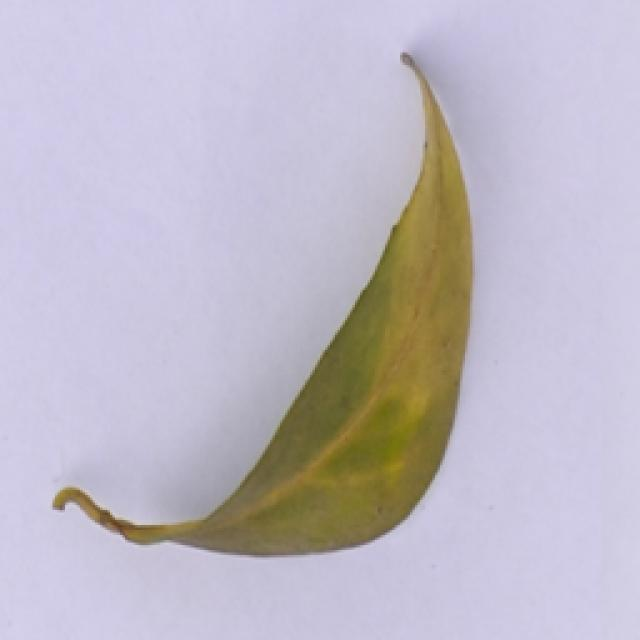greening: (43, 46, 484, 569)
